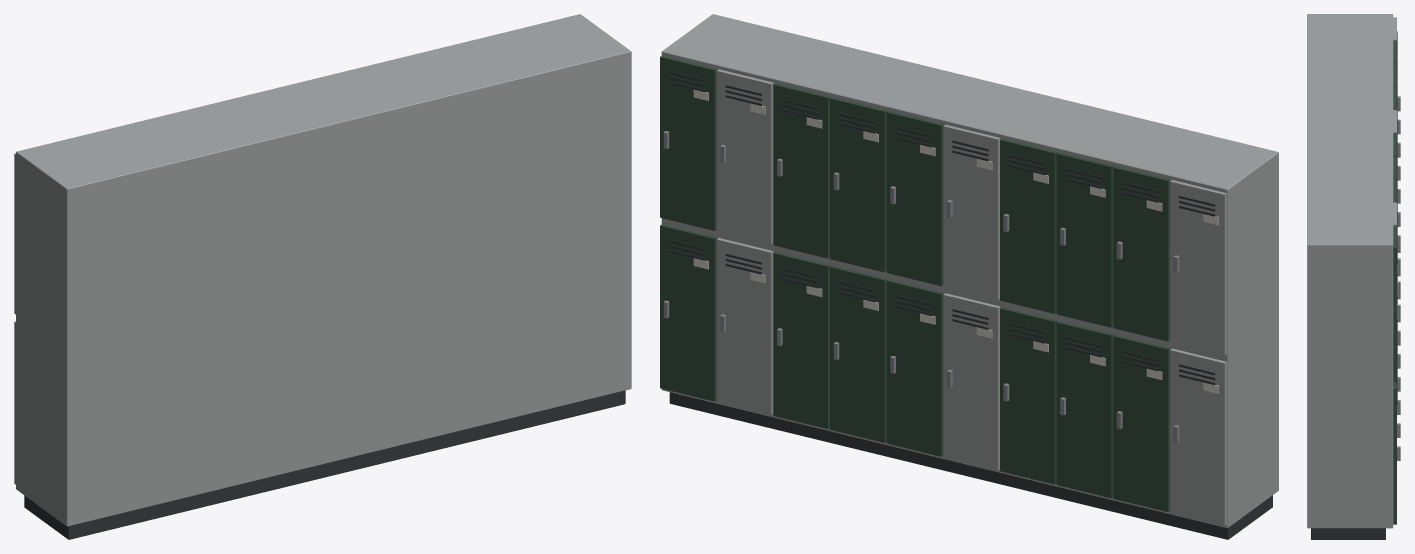
The model's file is prop_lockers_bank_w300.glb.
3 renders of one model, left to right at view 1: azimuth 30°, elevation 25°; view 2: azimuth 150°, elevation 25°; view 3: azimuth 270°, elevation 25°, orthographic. The views are drawn at different scales.
Parts seen in each view (by area): view 1: Lockers; view 2: Lockers; view 3: Lockers.
Part boxes in pixels (x1,y1,x2,y2): Lockers: (14, 14, 631, 539); Lockers: (660, 14, 1278, 539); Lockers: (1307, 14, 1400, 539).
Size of what is drawn, in the model's own units: 2.99 by 1.79 by 0.51.
